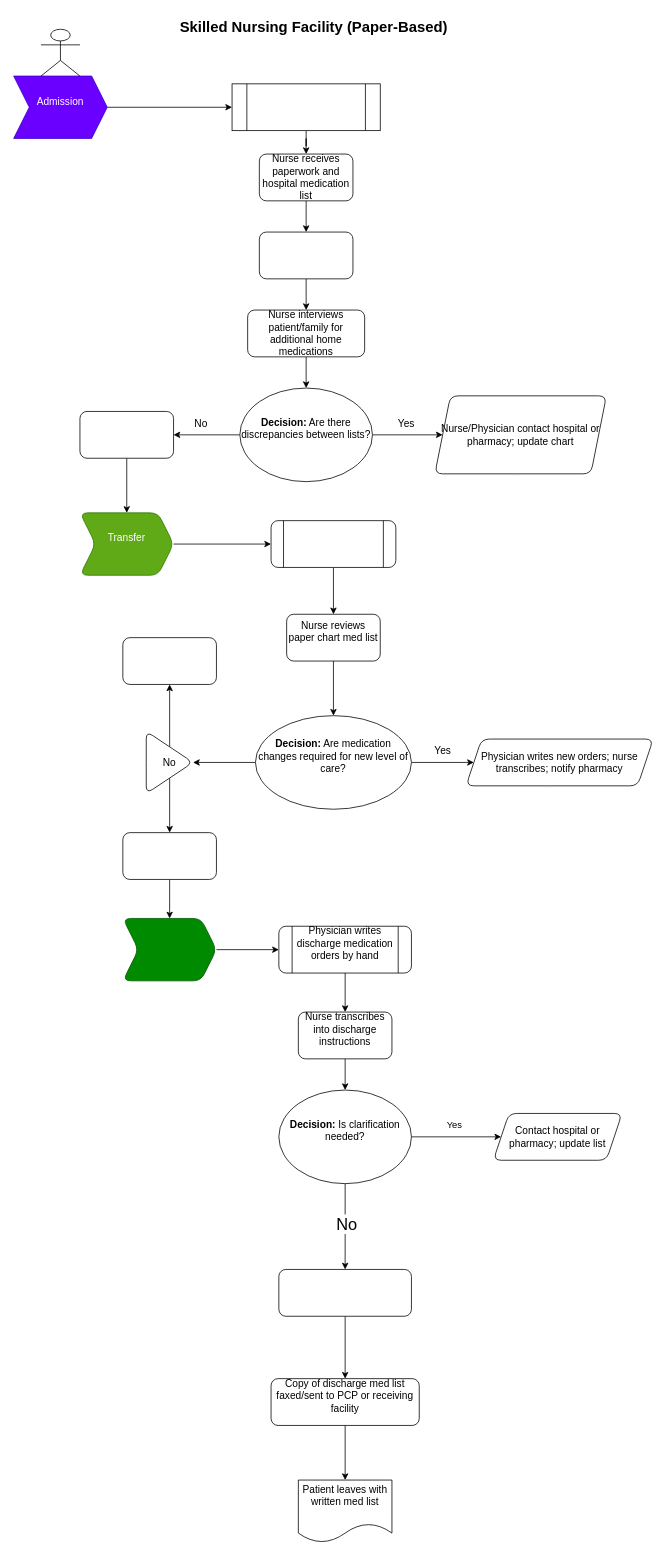
This 667x1556 diagram has some shape labels left out. The centre of each missing label's shape, as x and y in pixels:
"Consolidated med list finalized in paper chart" goes at pixel 126 434.
"Discharge" goes at pixel 169 949.
"Nurse educates patient/family and provides written med list" goes at pixel 344 1292.
"Patient admitted with hospital discharge summary/transfer note" goes at pixel 305 107.
"Pharmacy reviews high-risk meds if available" goes at pixel 169 660.
"Physician reviews transfer orders" goes at pixel 306 255.
"Physician writes transfer order for new unit/level of care" goes at pixel 333 543.
"Updated paper chart confirmed" goes at pixel 169 855.
